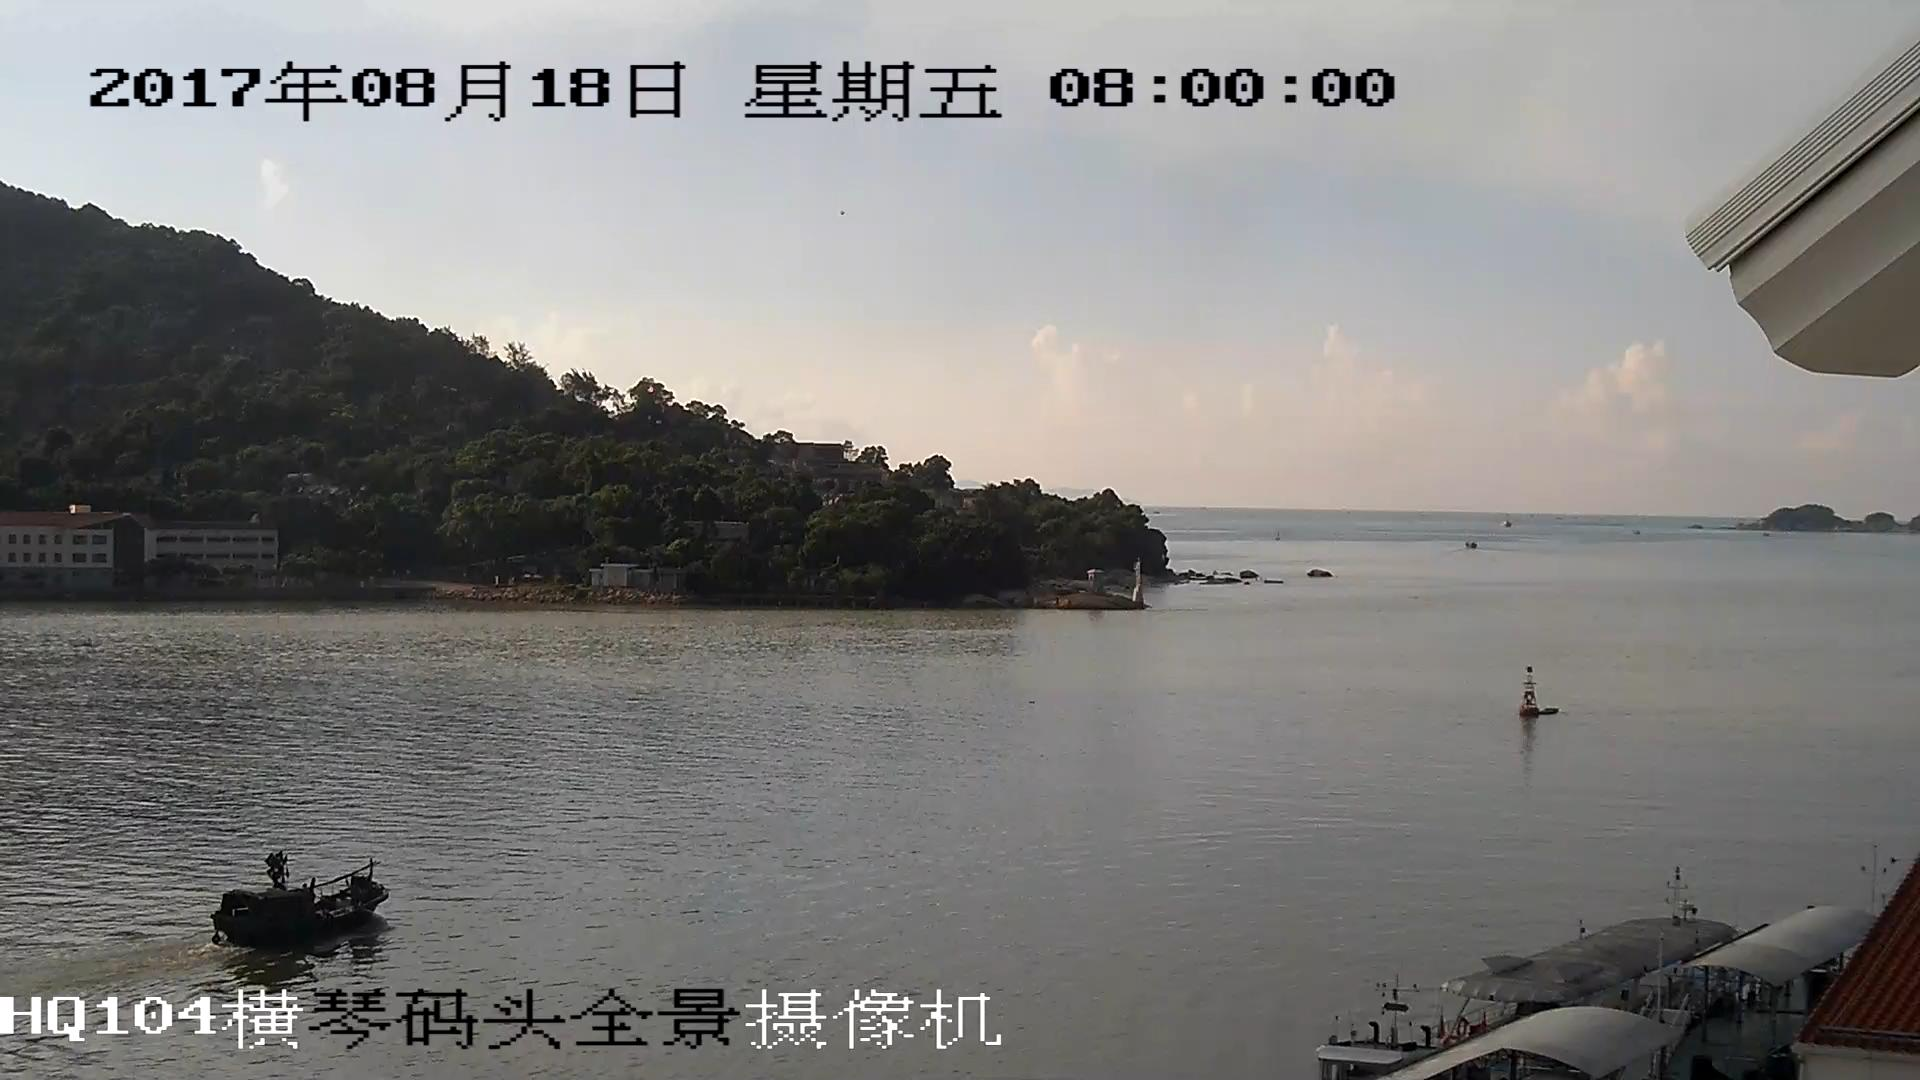fishing boat: (211, 856, 393, 940)
